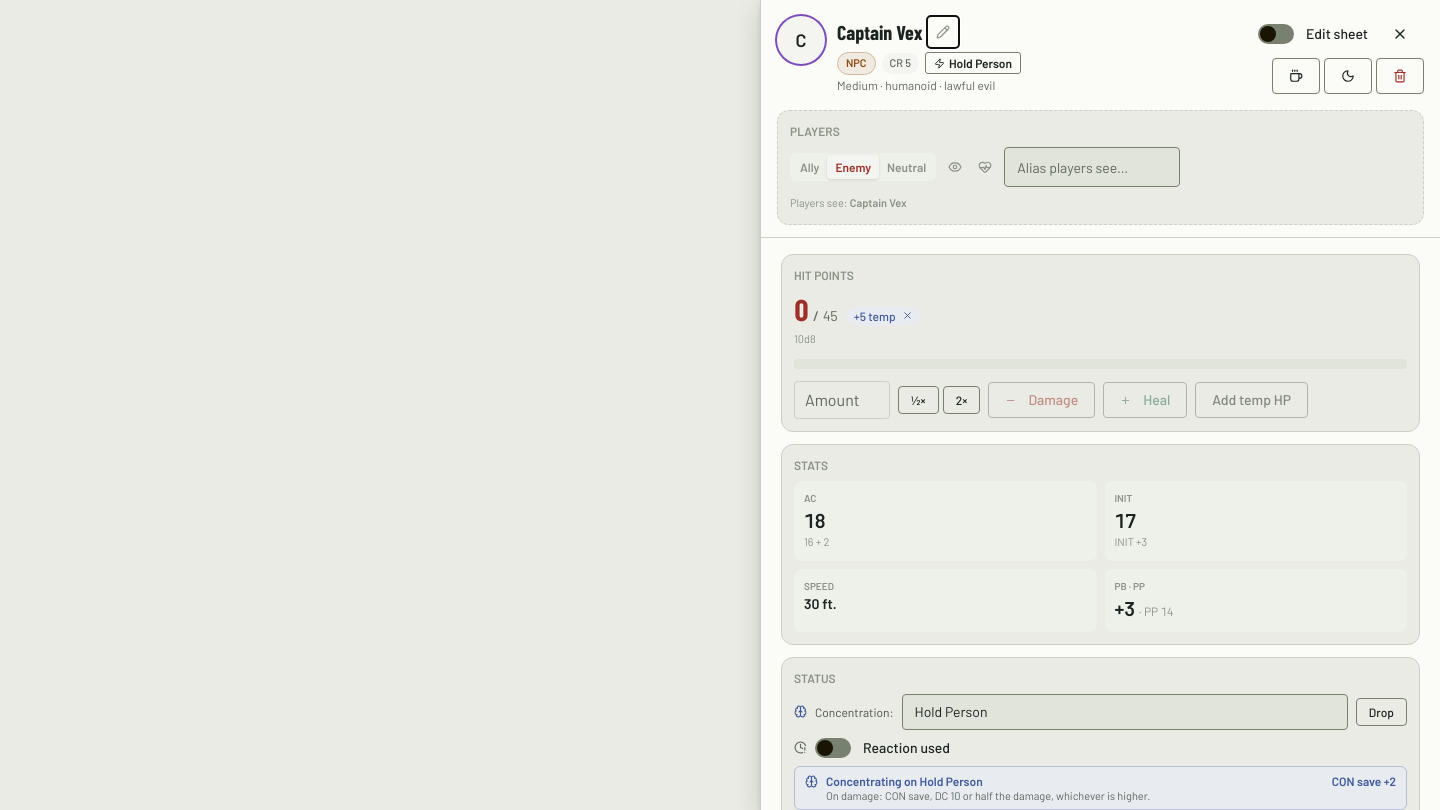
CreatureDrawer › shows the library-sync banner copy for a library-linked NPC
Click the switch named "Edit sheet" next to "Edit sheet" at (1276,34), box [1258, 24, 1294, 44]
(page scrolled)
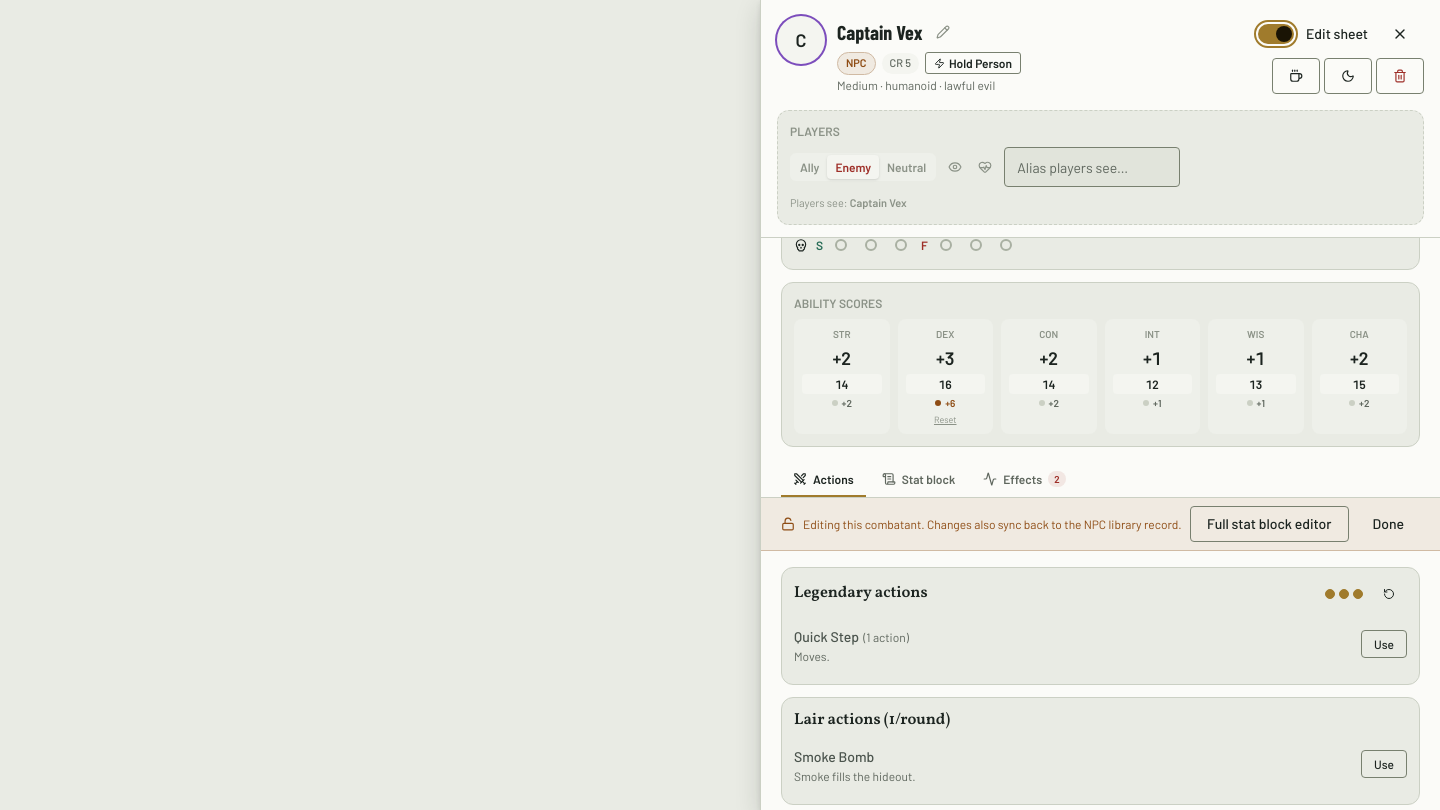
Now the text "Editing this combatant. Changes also sync back to the NPC library record." is shown, box [803, 516, 1182, 532]
